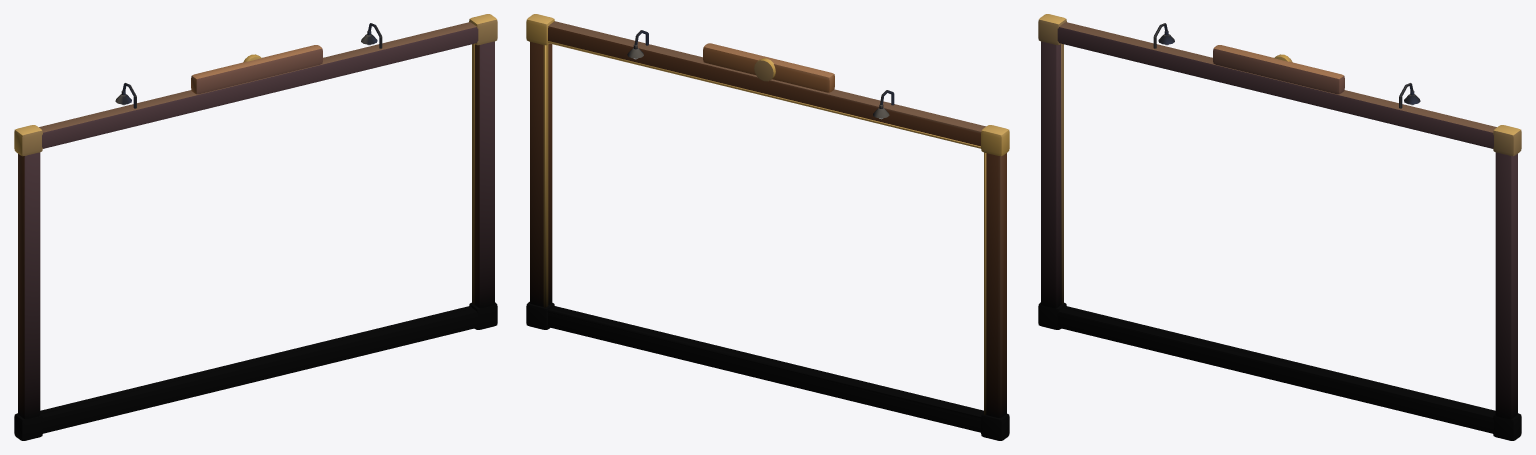
Rendered from LobbyBoardL.fbx.
3 views of the same model, side by side, from view 1: azimuth 30°, elevation 25°; view 2: azimuth 150°, elevation 25°; view 3: azimuth 330°, elevation 25° (orthographic).
Parts seen in each view (by area): view 1: SM_Prop_LobbyBoardL_Frame; view 2: SM_Prop_LobbyBoardL_Frame; view 3: SM_Prop_LobbyBoardL_Frame.
Part boxes in pixels (left/top/right/bottom): SM_Prop_LobbyBoardL_Frame: left=14, top=14, right=497, bottom=440; SM_Prop_LobbyBoardL_Frame: left=526, top=14, right=1009, bottom=440; SM_Prop_LobbyBoardL_Frame: left=1038, top=14, right=1521, bottom=440.
Bounding box in the file's own units: 26.1 × 16.95 × 1.73.
